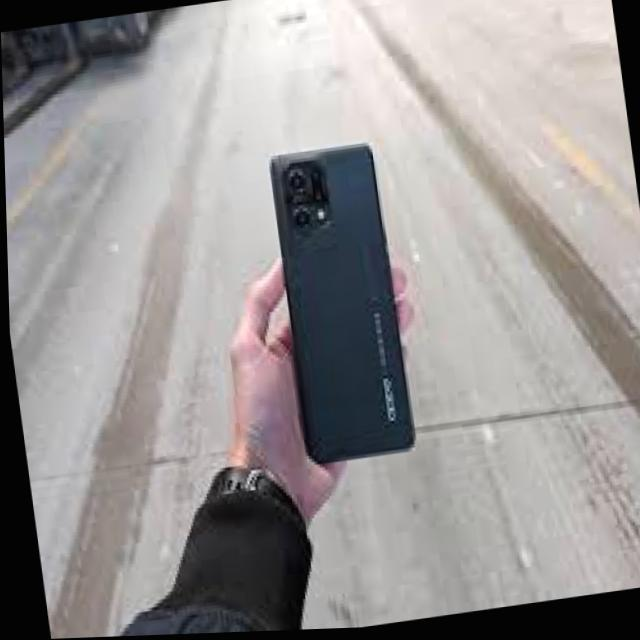Smartphone: (252, 127, 428, 488)
